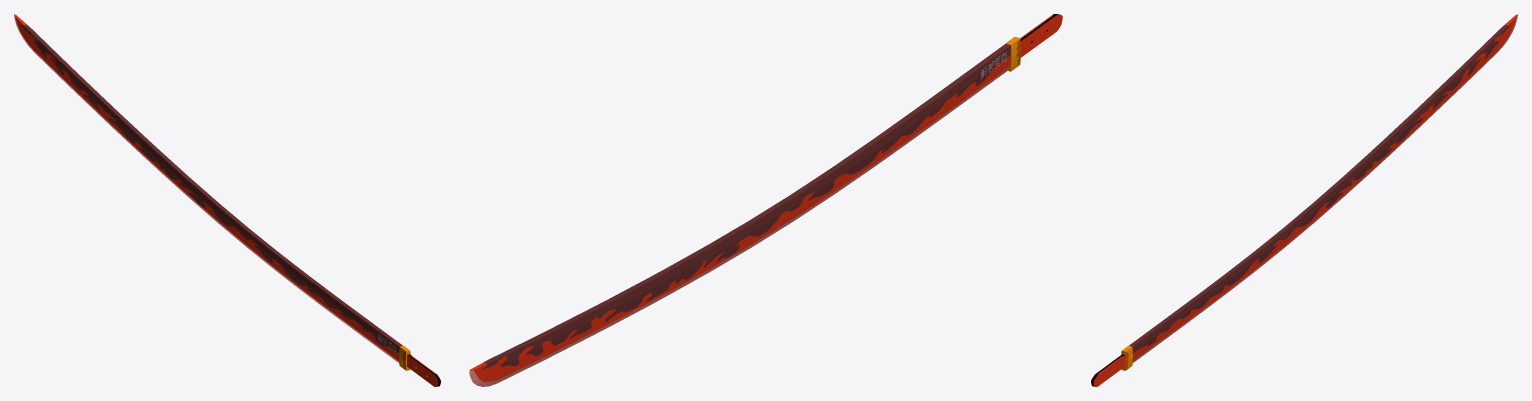
Rendered from blade_flame.glb.
3 views of the same model, side by side, from view 1: azimuth 30°, elevation 25°; view 2: azimuth 150°, elevation 25°; view 3: azimuth 330°, elevation 25° (orthographic). The views are drawn at different scales.
Visible parts, largest first — view 1: Blade; view 2: Blade; view 3: Blade.
Boxes of the visible parts, <box> form: Blade: <box>14,14,440,386</box>; Blade: <box>469,14,1062,386</box>; Blade: <box>1091,14,1517,386</box>.
Bounding box in the file's own units: 0.0197 × 0.2422 × 2.75.
5 materials, 1 textured.
